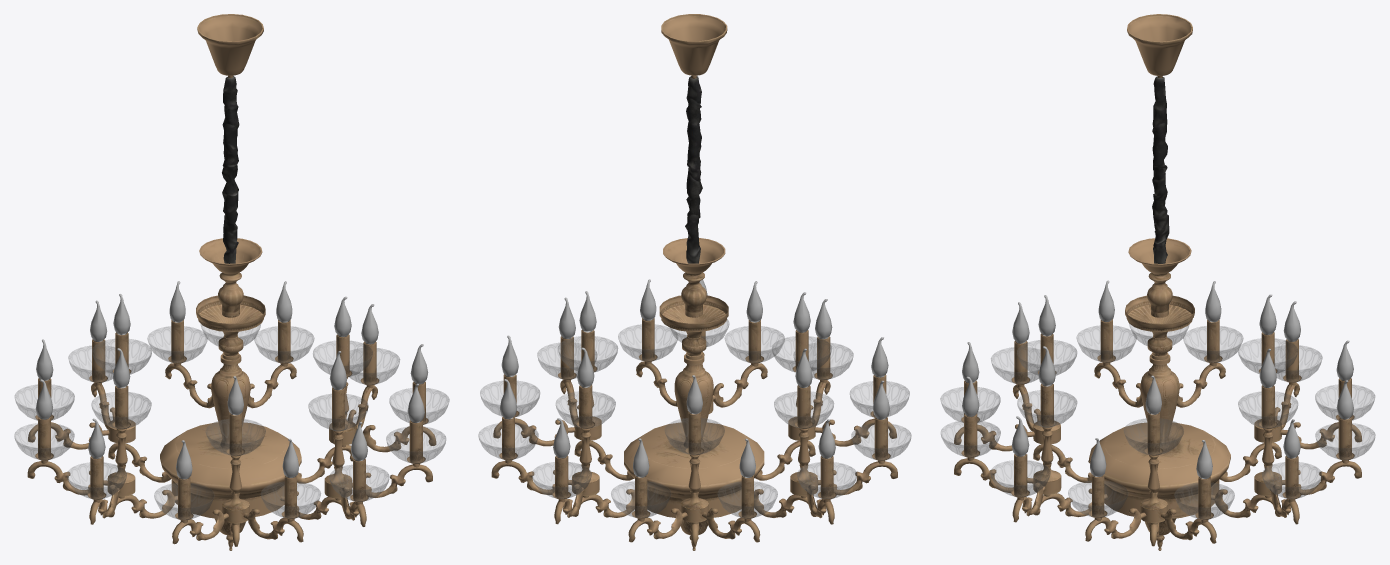
File: Chandelier_03_1k.glb
3 views of the same model, side by side, from view 1: azimuth 30°, elevation 25°; view 2: azimuth 150°, elevation 25°; view 3: azimuth 270°, elevation 25° (orthographic).
Parts seen in each view (by area): view 1: Chandelier_03; view 2: Chandelier_03; view 3: Chandelier_03.
Boxes of the visible parts, box(x1,y1,x2,y2) form: Chandelier_03: box(14, 14, 449, 550); Chandelier_03: box(478, 14, 911, 550); Chandelier_03: box(940, 14, 1375, 550).
Bounding box in the file's own units: 0.7804 × 1.04 × 0.7855.
2 materials, 2 textured.
